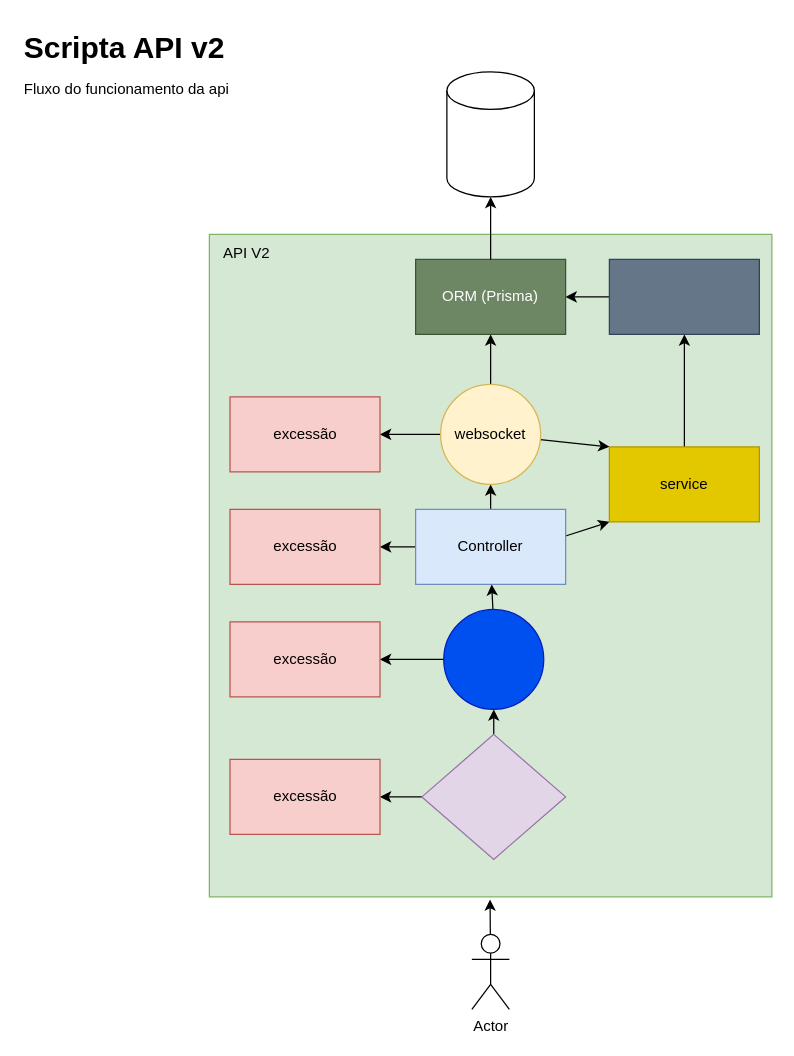
This 794x1056 diagram has some shape labels left out. Here are the shapes that lost their labels. From the top down, the box of each, then its label:
(446, 71, 534, 197): PostgreSQL
(608, 258, 759, 334): Redis
(442, 608, 544, 709): schema
(421, 733, 566, 859): pre handler (middleware)
